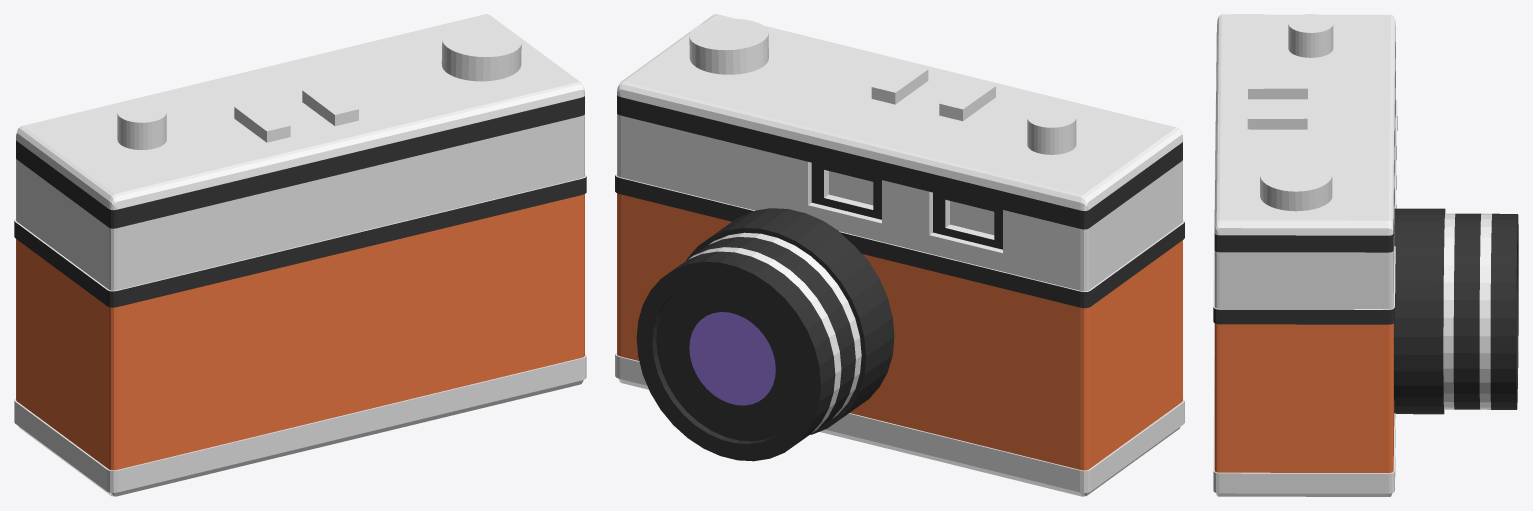
The model's file is photoCamera-normal.glb.
3 views of the same model, side by side, from view 1: azimuth 30°, elevation 25°; view 2: azimuth 150°, elevation 25°; view 3: azimuth 270°, elevation 25° (orthographic). The views are drawn at different scales.
Visible parts, largest first — view 1: Box20179, Cylinder003; view 2: Box20179, Cylinder001, Cylinder003, Object002; view 3: Box20179, Cylinder001, Cylinder003.
Part boxes in pixels (left/top/right/bottom): Box20179: left=14, top=14, right=586, bottom=496; Cylinder003: left=117, top=25, right=521, bottom=149; Box20179: left=615, top=14, right=1184, bottom=496; Cylinder001: left=636, top=208, right=894, bottom=461; Cylinder003: left=689, top=18, right=1076, bottom=154; Object002: left=689, top=312, right=775, bottom=405; Box20179: left=1213, top=14, right=1397, bottom=496; Cylinder001: left=1394, top=208, right=1518, bottom=414; Cylinder003: left=1247, top=14, right=1333, bottom=211.
Size of the model in its own units: 0.306 by 0.202 by 0.1857.
